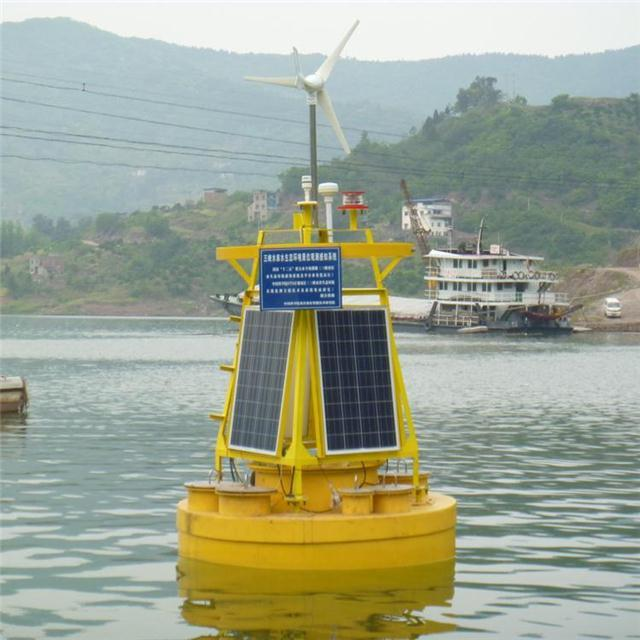buoy: (172, 16, 461, 568)
